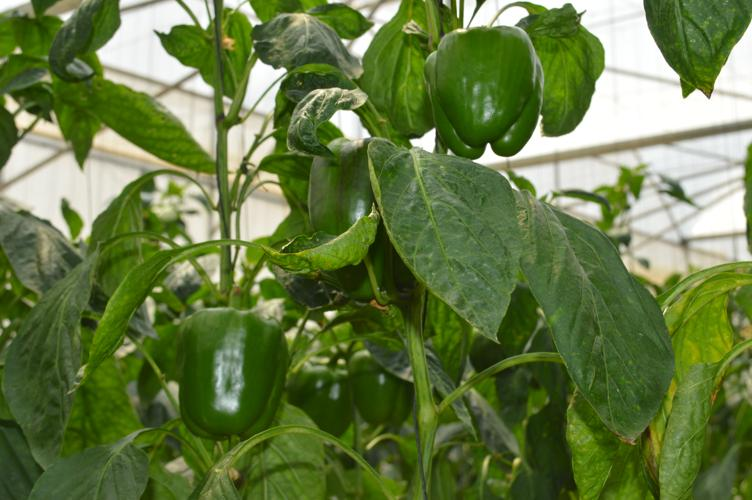BellPepper: (416, 26, 542, 162), (310, 137, 411, 300), (177, 310, 288, 441), (288, 366, 350, 437), (348, 357, 406, 427)
